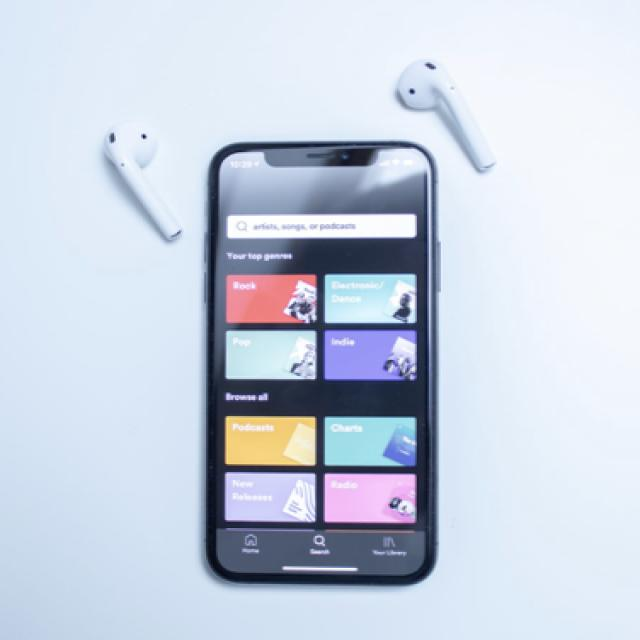cellphone: (204, 139, 439, 586)
